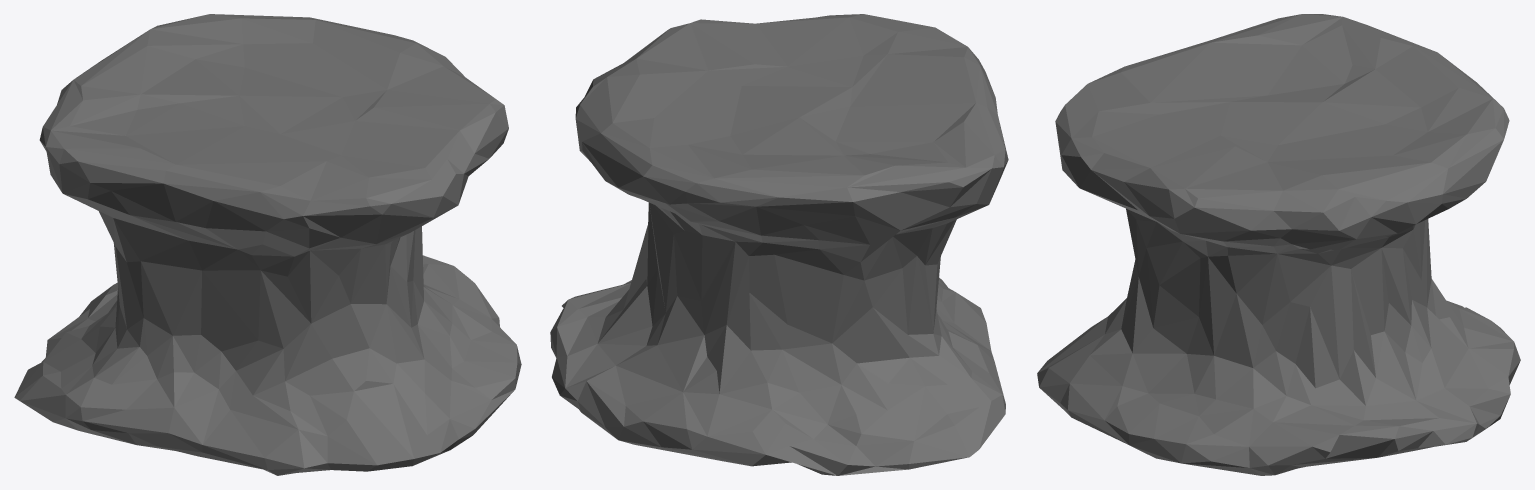
The model's file is SM_Gen_Env_Dirt_Cliff_07.glb.
3 views of the same model, side by side, from view 1: azimuth 30°, elevation 25°; view 2: azimuth 150°, elevation 25°; view 3: azimuth 270°, elevation 25° (orthographic). The views are drawn at different scales.
Visible parts, largest first — view 1: SM_Gen_Env_Dirt_Cliff_07; view 2: SM_Gen_Env_Dirt_Cliff_07; view 3: SM_Gen_Env_Dirt_Cliff_07.
Part boxes in pixels (x1,y1,x2,y2): SM_Gen_Env_Dirt_Cliff_07: (14,14,521,475); SM_Gen_Env_Dirt_Cliff_07: (550,14,1008,475); SM_Gen_Env_Dirt_Cliff_07: (1037,14,1520,475).
Bounding box in the file's own units: 12.2 × 8.14 × 12.03.
Materials: 1 (1 with a texture image).
